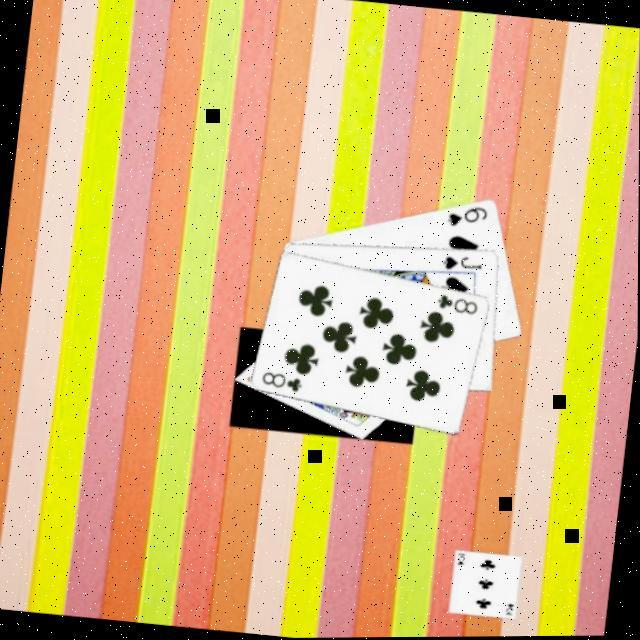6S: (445, 201, 492, 233)
8C: (434, 290, 482, 319), (259, 368, 307, 396)
JS: (440, 251, 486, 276)
